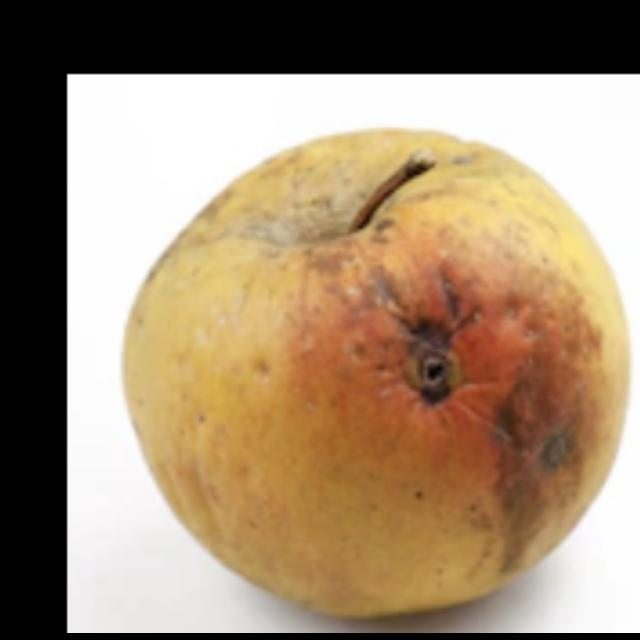Apel Tidak Segar: (114, 119, 636, 633)
